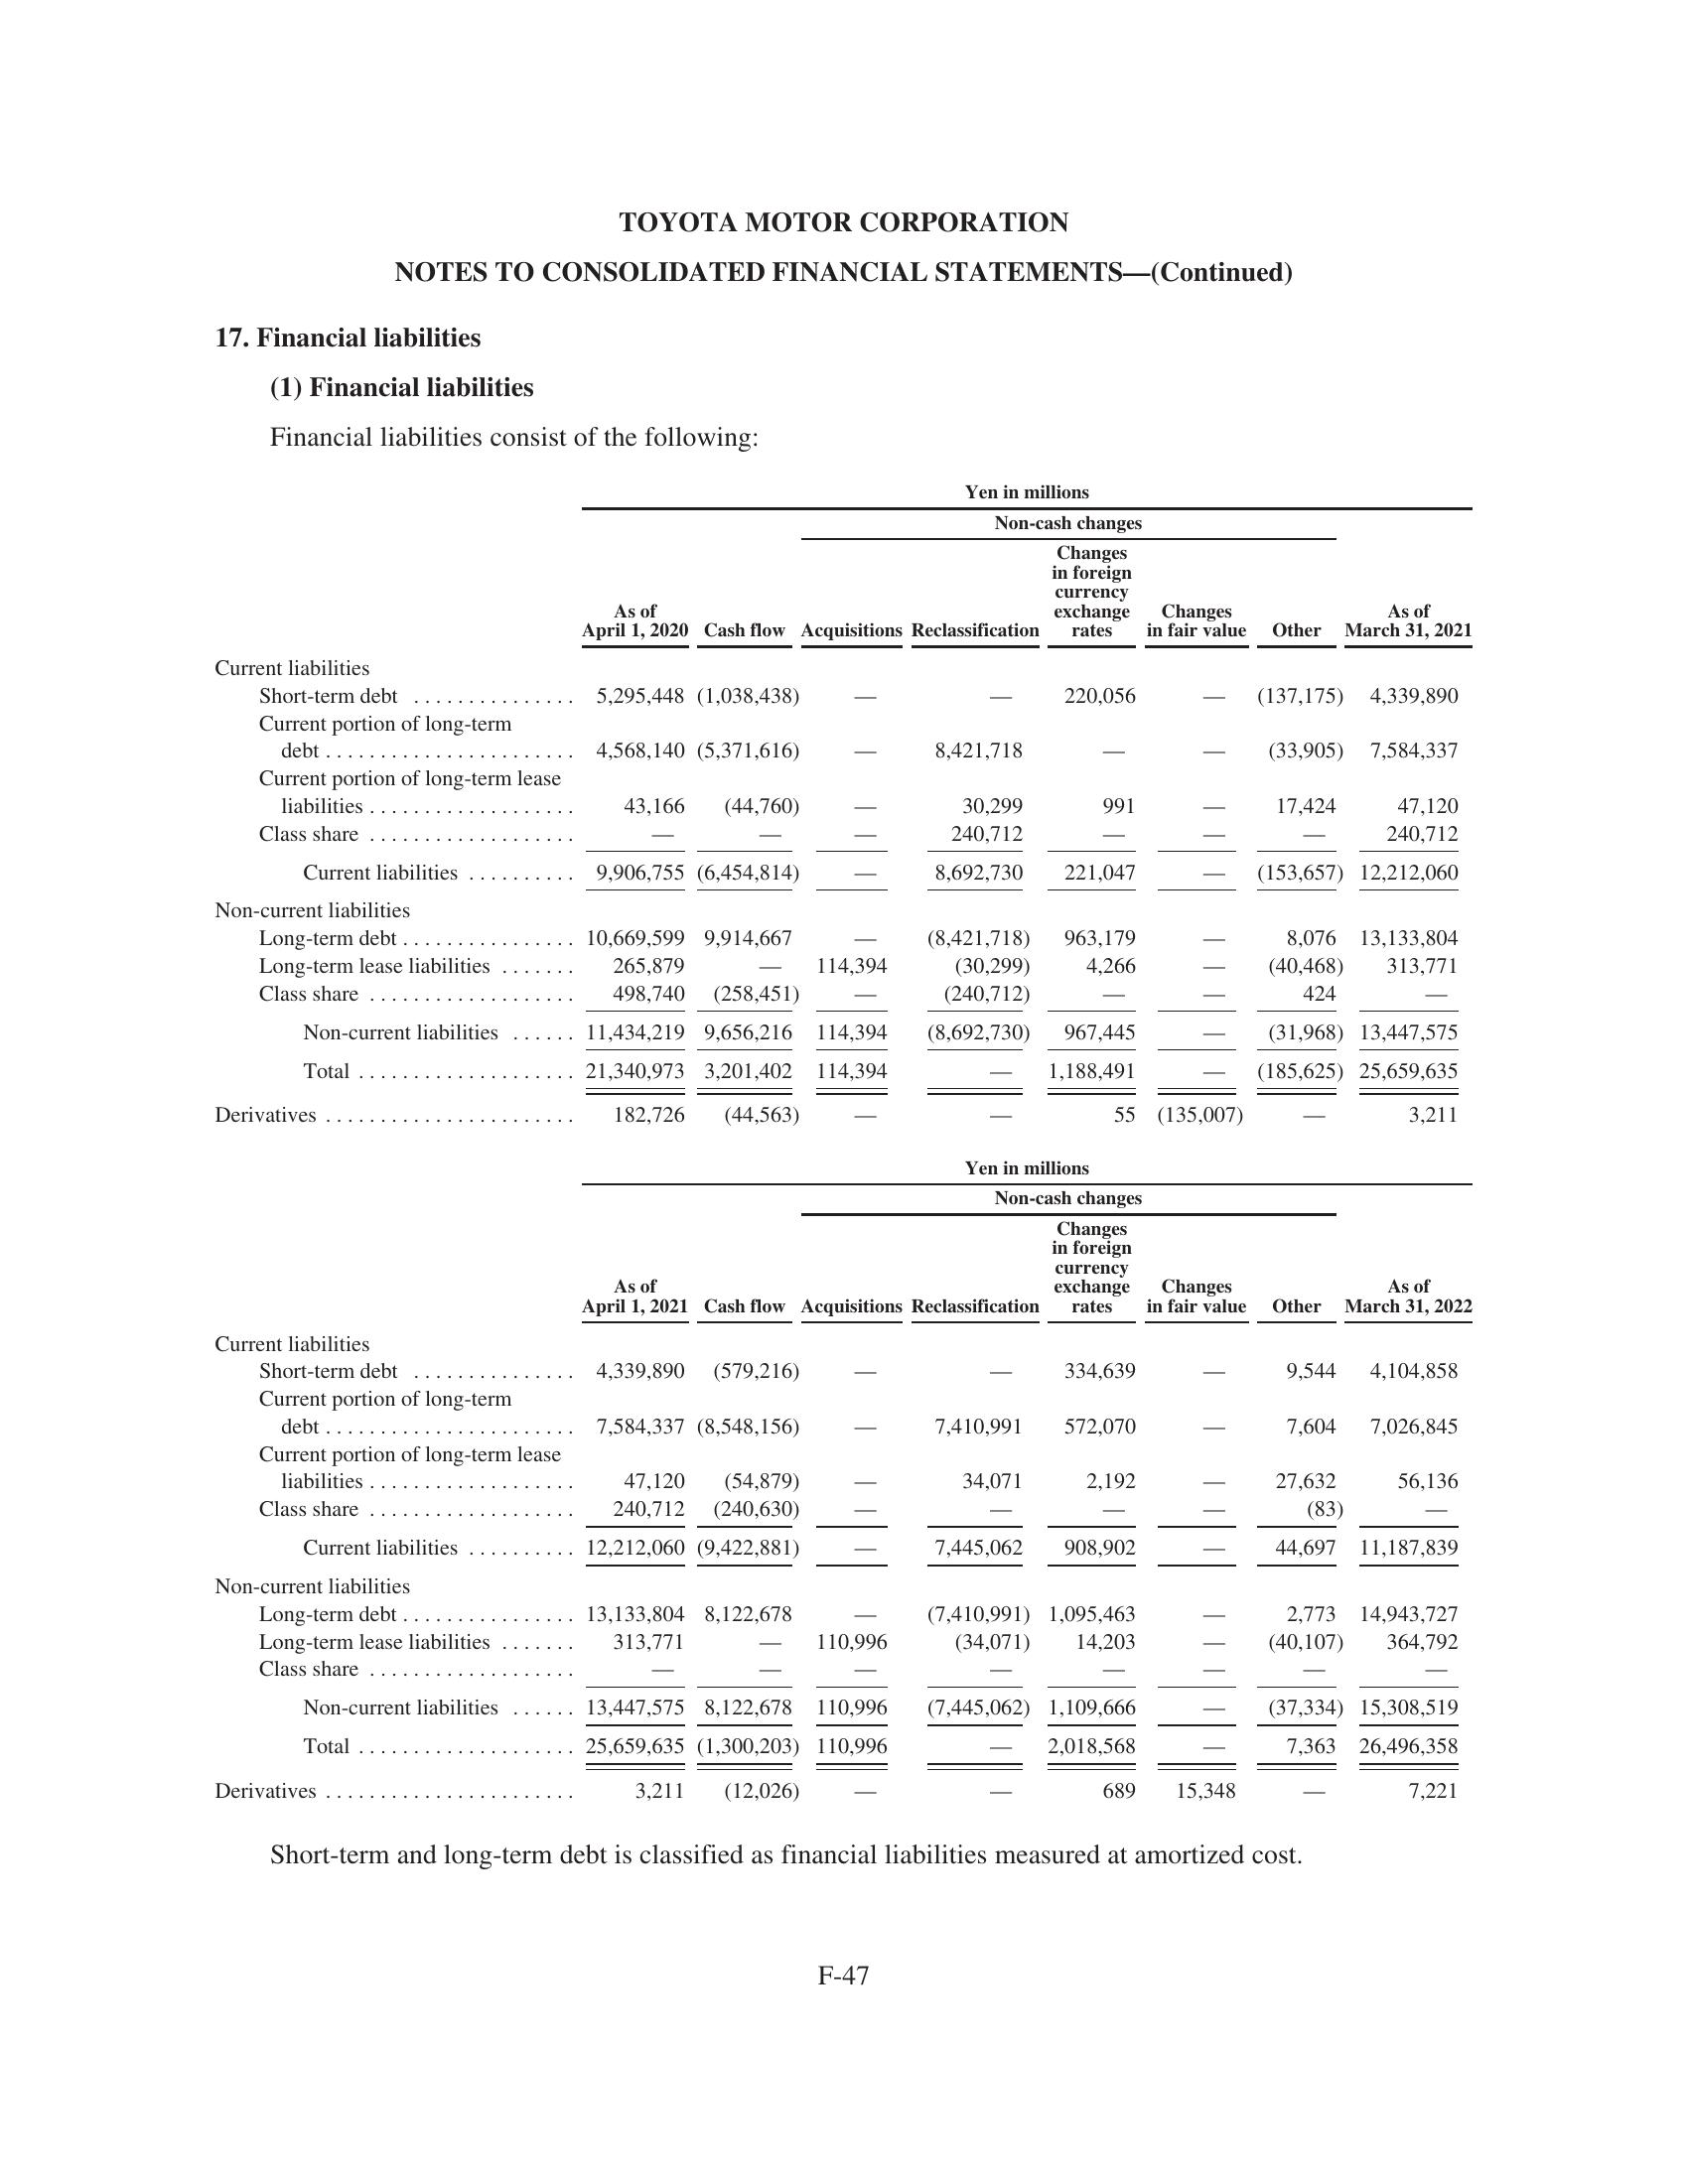Footer: (0, 1950, 1688, 2184)
Header: (0, 0, 1688, 170)
Table: (142, 468, 1500, 1149), (145, 1156, 1497, 1801)
